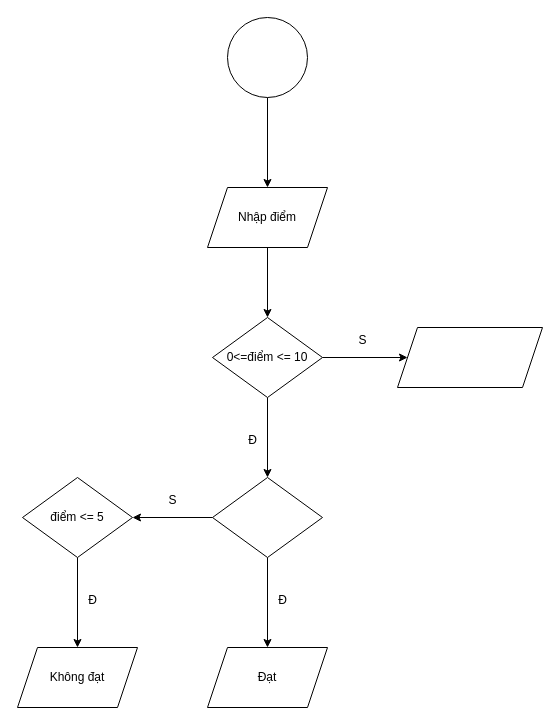
The diagram is 560 pixels wide and 725 high, and some of its shapes have lost their labels. Here are the shapes that lost their labels. From the top down, the centre of each, then its label:
At (267,57): "Start".
At (469,357): "điểm không thỏa mãn".
At (267,517): "5 <= điểm".
